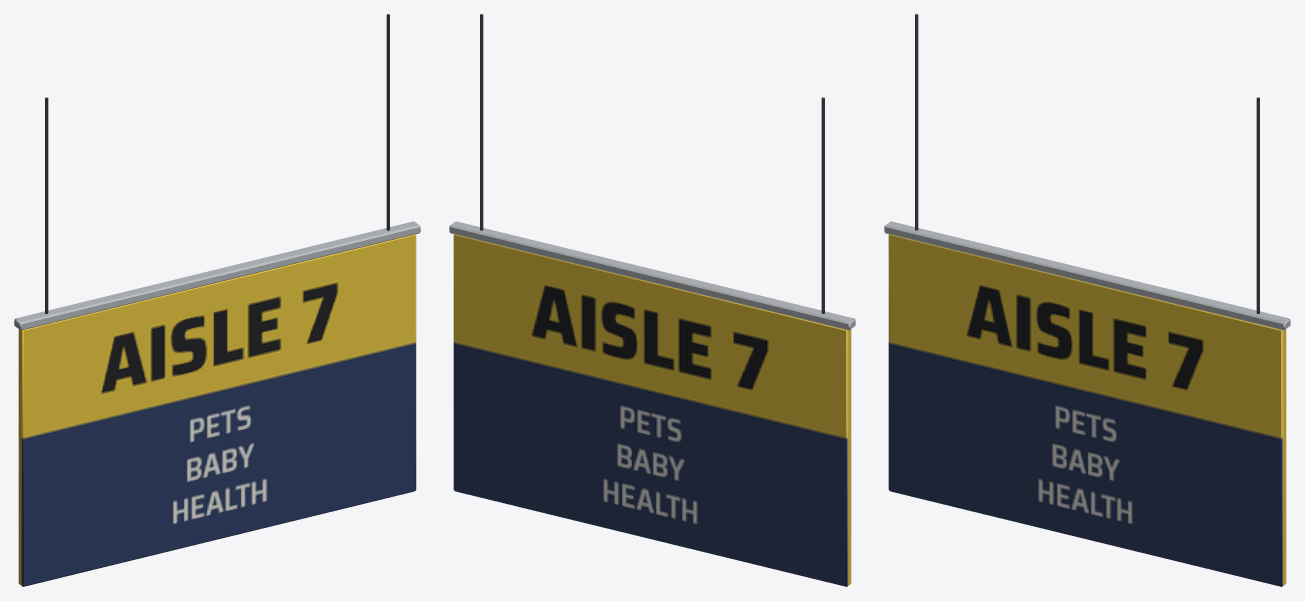
Rendered from hanging_sign_7.glb.
The picture shows the model from 3 angles, left to right: view 1: azimuth 30°, elevation 25°; view 2: azimuth 150°, elevation 25°; view 3: azimuth 330°, elevation 25°; orthographic projection.
Parts seen in each view (by area): view 1: hanging_sign_7; view 2: hanging_sign_7; view 3: hanging_sign_7.
Part boxes in pixels (x1,y1,x2,y2): hanging_sign_7: (14, 14, 420, 586); hanging_sign_7: (449, 14, 855, 586); hanging_sign_7: (884, 14, 1290, 586).
Size of the model in its own units: 6.1 by 7 by 0.18.
Materials: 3 (1 with a texture image).
